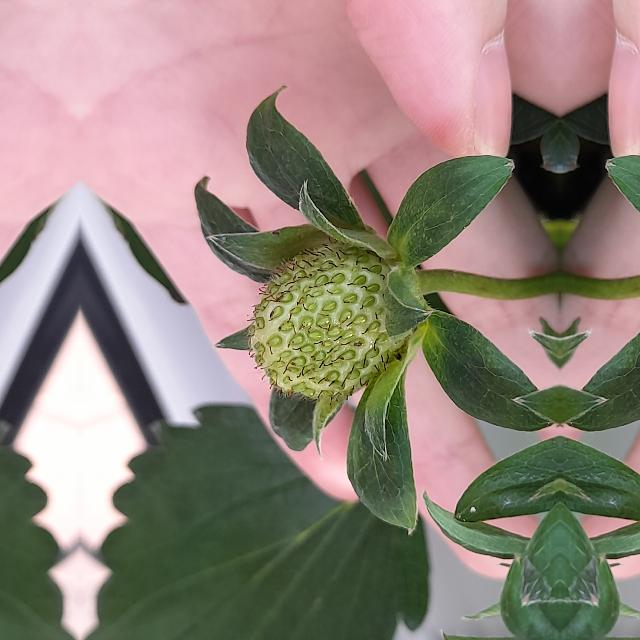Health_25: (243, 235, 407, 402)
